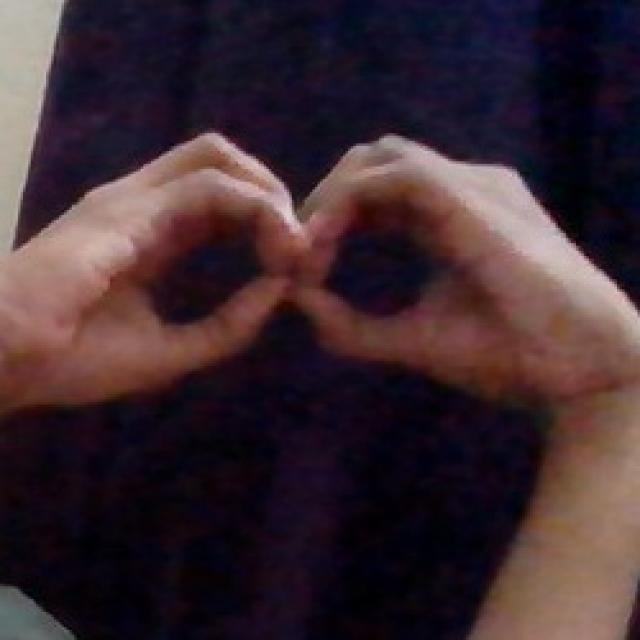Alphabet-B: (17, 120, 623, 430)
